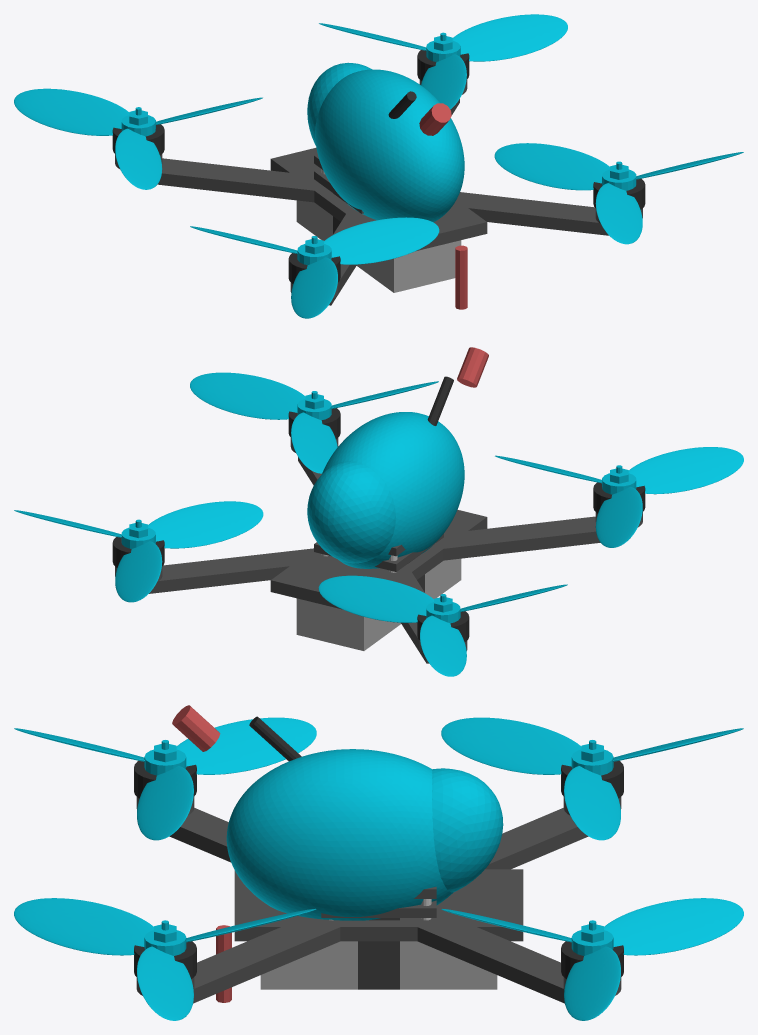
3 renders of one model, top to bottom at view 1: azimuth 30°, elevation 25°; view 2: azimuth 150°, elevation 25°; view 3: azimuth 270°, elevation 25°, orthographic. The views are drawn at different scales.
Parts seen in each view (by area): view 1: mat_plastic_canopy, mat_carbon_frame, prop_mat_plastic_3, prop_mat_plastic_0, prop_mat_plastic_2, prop_mat_plastic_1, mat_batt_body, mat_wire_red, mat_plastic_antennatip; view 2: mat_plastic_canopy, mat_carbon_frame, prop_mat_plastic_1, prop_mat_plastic_2, prop_mat_plastic_3, prop_mat_plastic_0, mat_batt_body, mat_plastic_antennatip, mat_board_1, mat_plastic_antenna; view 3: mat_plastic_canopy, mat_carbon_frame, prop_mat_plastic_0, prop_mat_plastic_1, prop_mat_plastic_2, prop_mat_plastic_3, mat_batt_body, mat_fabric_strap, mat_plastic_antennatip, mat_board_1, mat_plastic_antenna, mat_metal_bell_2 (+3 smaller).
Boxes of the visible parts, x1,y1,x2,y2 form: mat_plastic_canopy: (307, 62, 464, 222); mat_carbon_frame: (157, 99, 608, 305); prop_mat_plastic_3: (190, 217, 439, 318); prop_mat_plastic_0: (494, 143, 743, 244); prop_mat_plastic_2: (14, 88, 262, 189); prop_mat_plastic_1: (319, 14, 567, 109); mat_batt_body: (296, 200, 461, 292); mat_wire_red: (455, 245, 467, 309); mat_plastic_antennatip: (419, 103, 451, 135); mat_plastic_canopy: (307, 412, 464, 568); mat_carbon_frame: (149, 457, 600, 663); prop_mat_plastic_1: (14, 501, 263, 602); prop_mat_plastic_2: (318, 575, 567, 676); prop_mat_plastic_3: (495, 447, 743, 547); prop_mat_plastic_0: (190, 372, 438, 473); mat_batt_body: (296, 558, 461, 650); mat_plastic_antennatip: (457, 347, 488, 387); mat_board_1: (314, 533, 443, 571); mat_plastic_antenna: (427, 376, 453, 425); mat_plastic_canopy: (226, 749, 503, 920); mat_carbon_frame: (169, 808, 588, 1003); prop_mat_plastic_0: (14, 898, 316, 1020); prop_mat_plastic_1: (441, 898, 743, 1020); prop_mat_plastic_2: (441, 717, 743, 840); prop_mat_plastic_3: (14, 717, 316, 840); mat_batt_body: (260, 941, 497, 989); mat_fabric_strap: (358, 918, 399, 989); mat_plastic_antennatip: (172, 705, 220, 751); mat_board_1: (321, 900, 436, 917); mat_plastic_antenna: (249, 716, 301, 761); mat_metal_bell_2: (561, 760, 623, 798).
Size of the model in its own units: 0.1321 by 0.0569 by 0.139.
